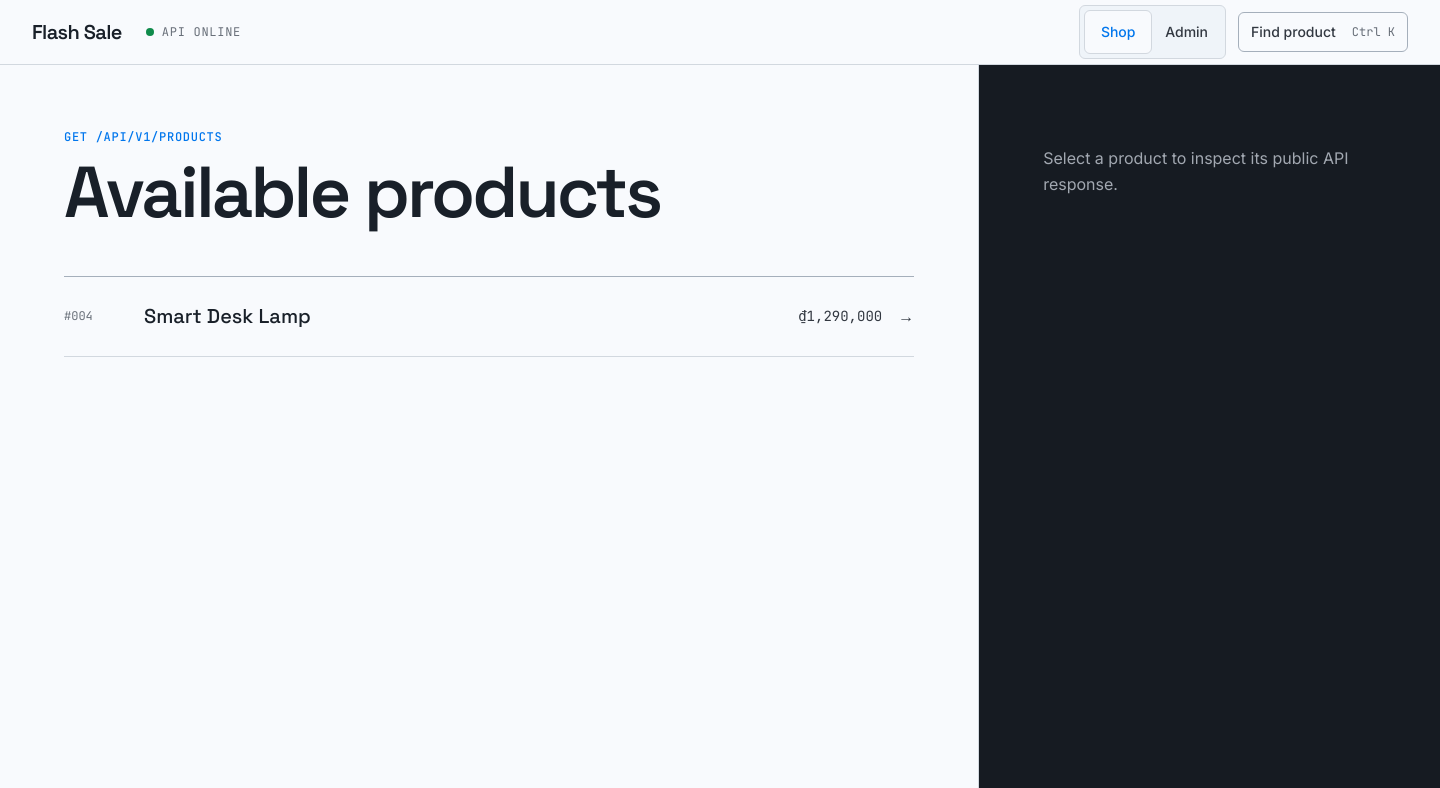
Test: App › lets an administrator edit mutable product fields and reflects them in the Shop
The width and height of the screenshot is (1440, 788).
Expected: the button "#004 Smart Desk Lamp ₫1,290,000 →" is shown, x1=64 y1=276 x2=914 y2=356
Click the button "Admin": (1187, 32) x1=1152 y1=10 x2=1221 y2=54
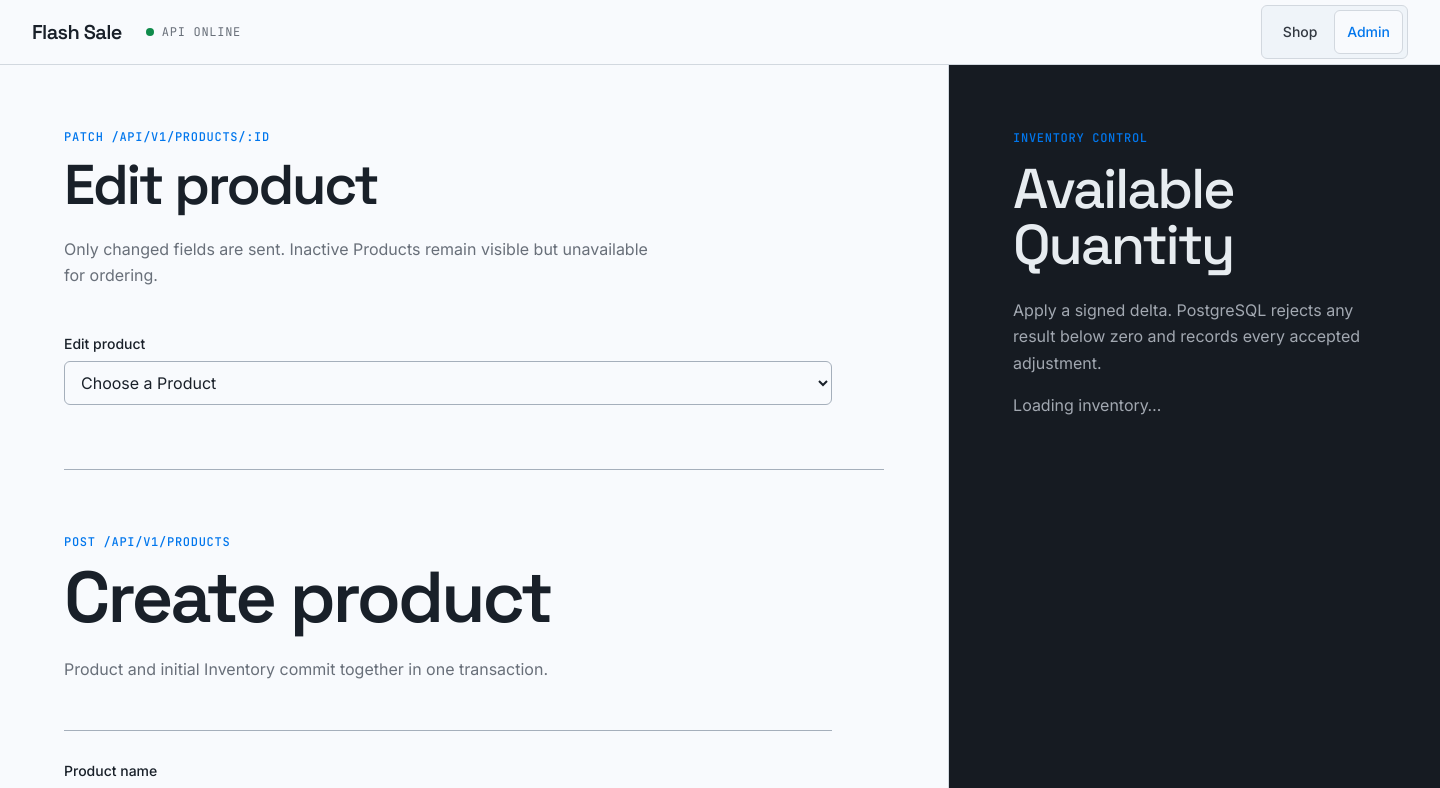
Select "#4 · Smart Desk Lamp" in the dropdown labelled "Edit product": (448, 383) x1=64 y1=361 x2=832 y2=405
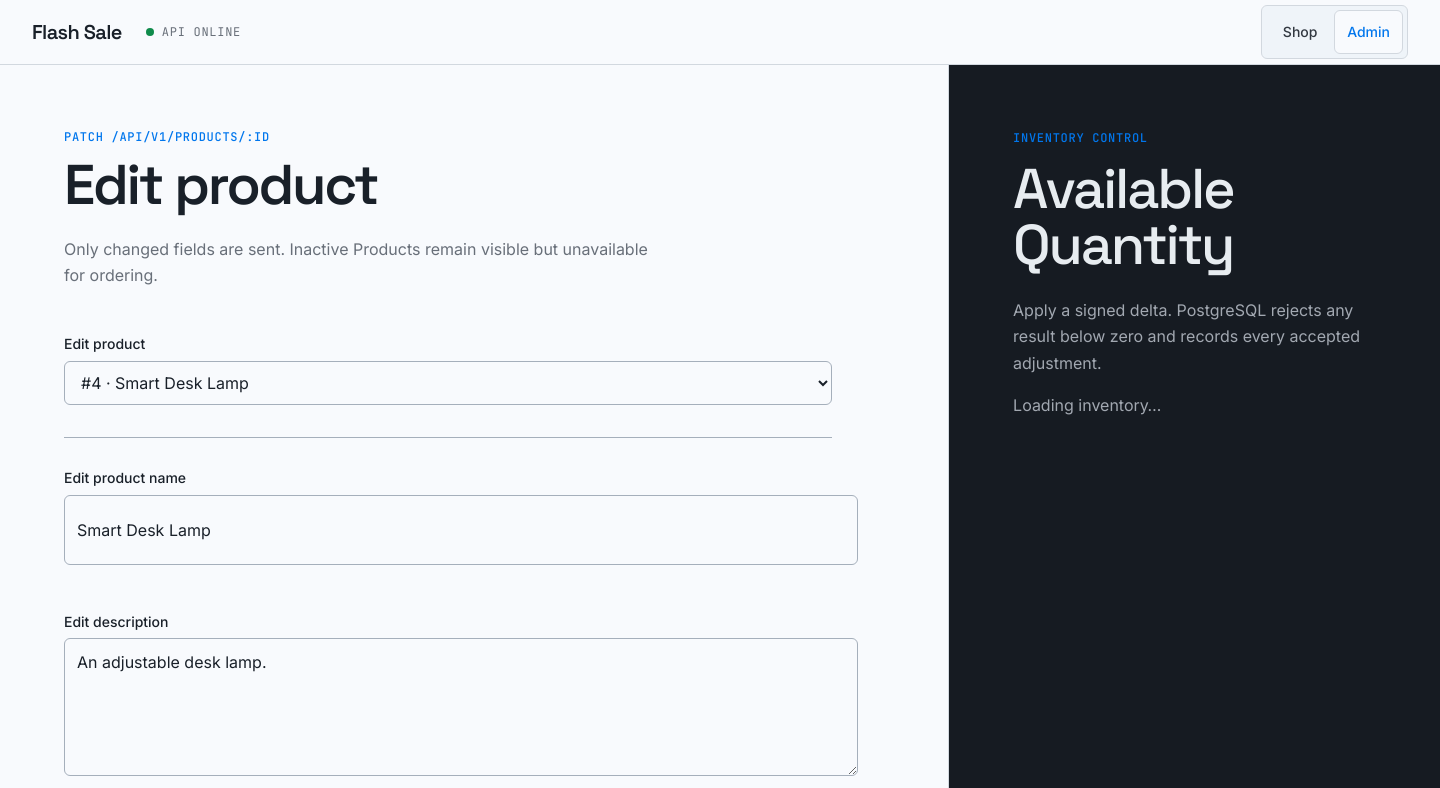
Replace the text in the field labelled "Edit product name" with "Focus Desk Lamp": (461, 530) x1=64 y1=495 x2=858 y2=565
(page scrolled)
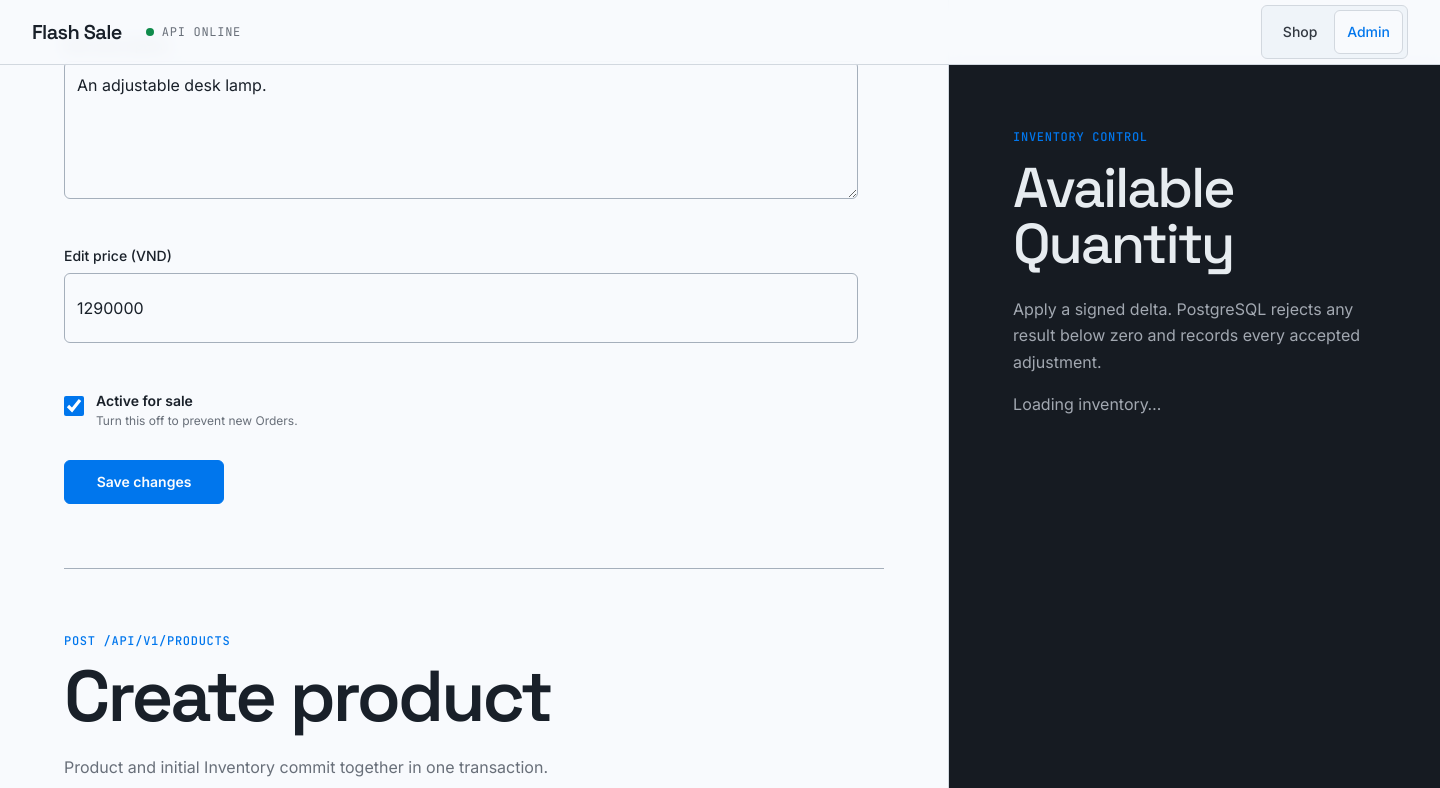
Click the checkbox named "Edit active for sale": (74, 406) x1=64 y1=396 x2=84 y2=416
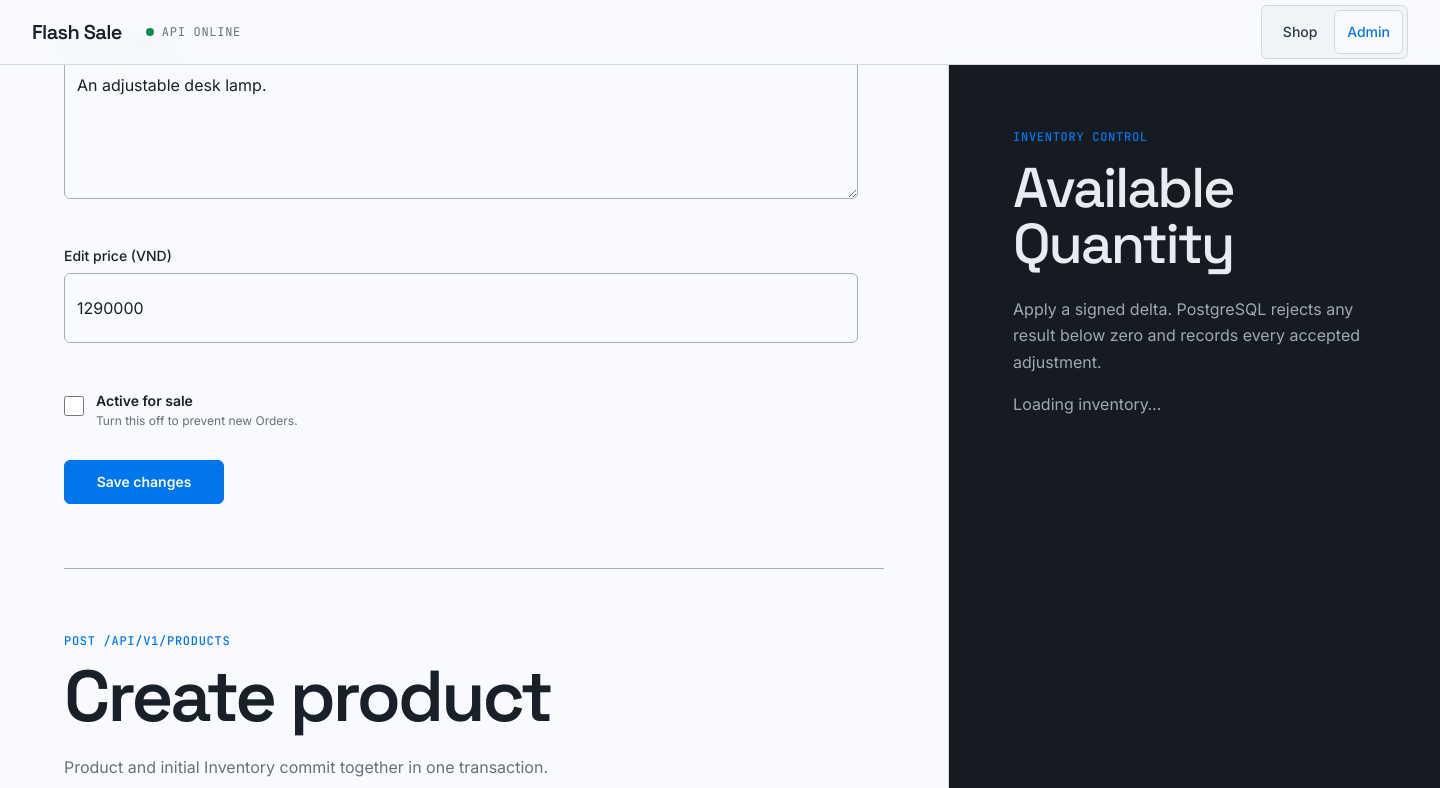
Click the button "Save changes": (144, 482) x1=64 y1=460 x2=224 y2=504
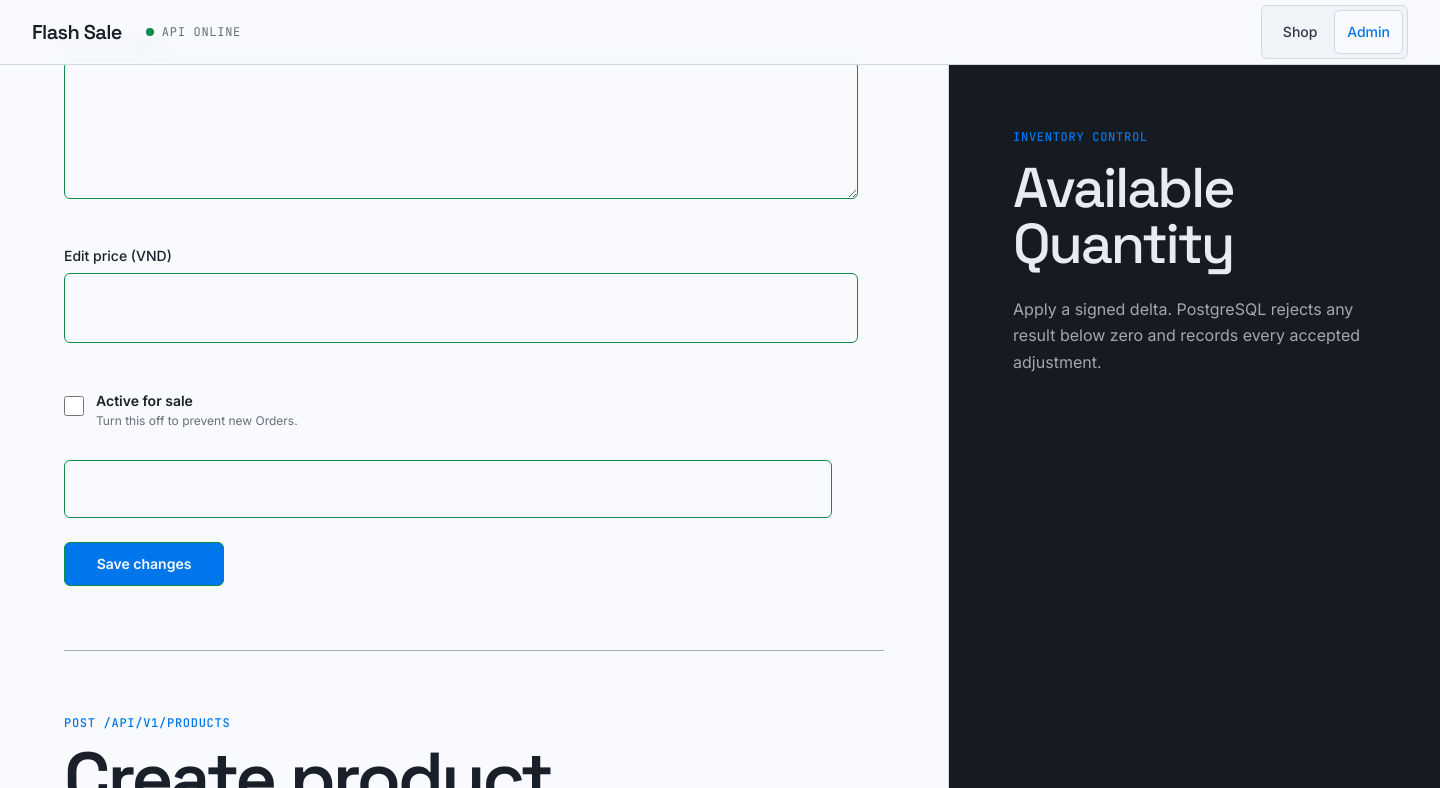
Click the button "Shop": (1300, 32) x1=1266 y1=10 x2=1334 y2=54
(page scrolled)
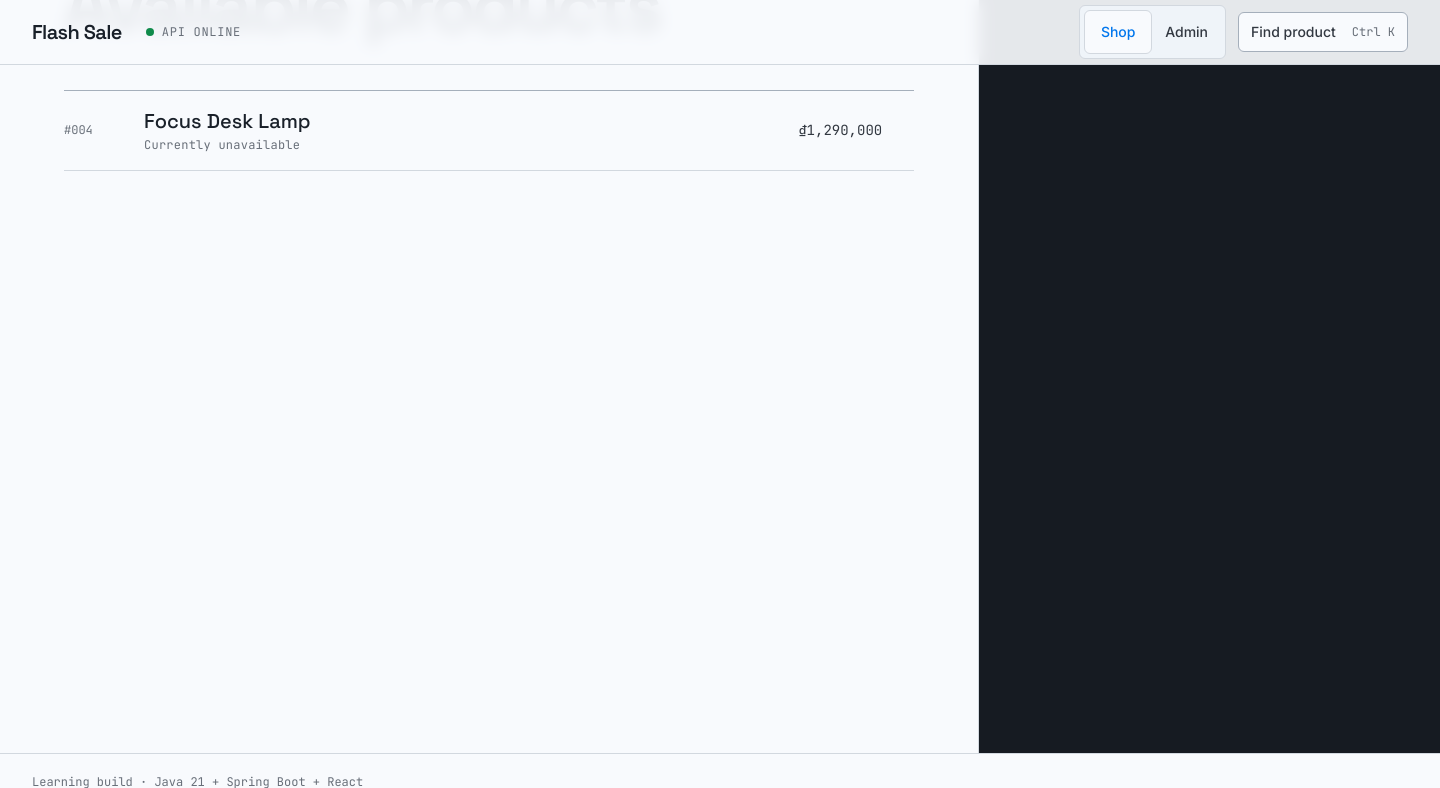
Expected: the button "#004 Focus Desk Lamp Currently unavailable ₫1,290,000 →" is shown, x1=64 y1=90 x2=914 y2=170
